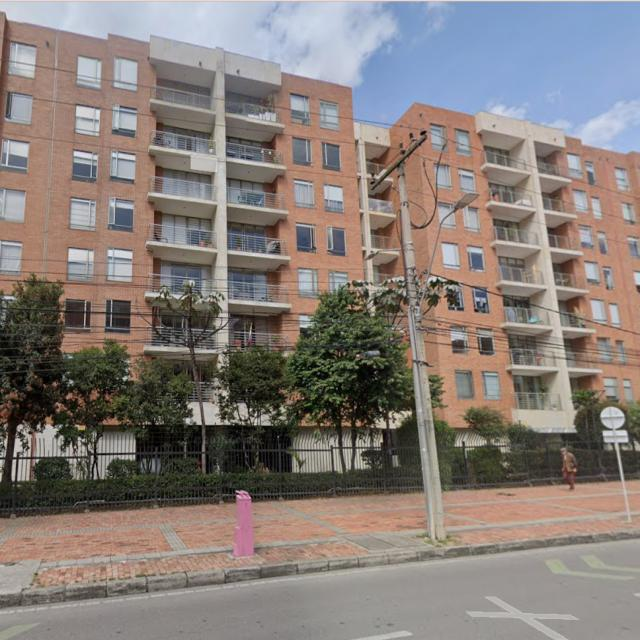fachada: (0, 13, 639, 431)
poste: (398, 139, 446, 540), (615, 432, 632, 521)
